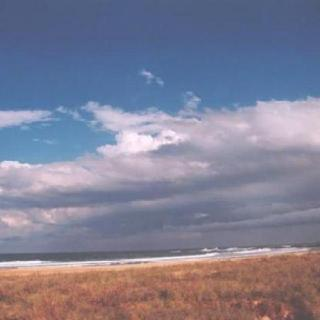Cumulonimbus: (0, 0, 318, 246)
